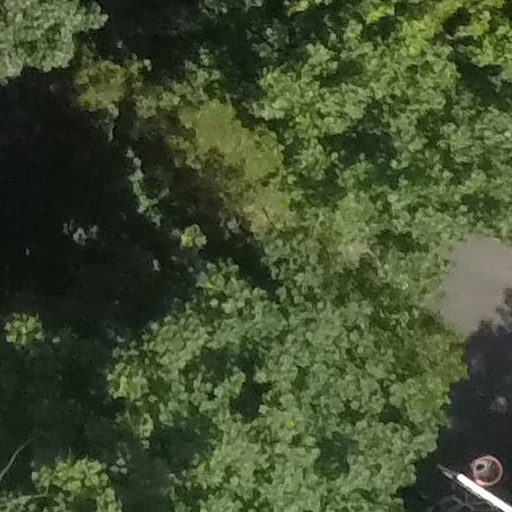basketball: (440, 435, 509, 512)
